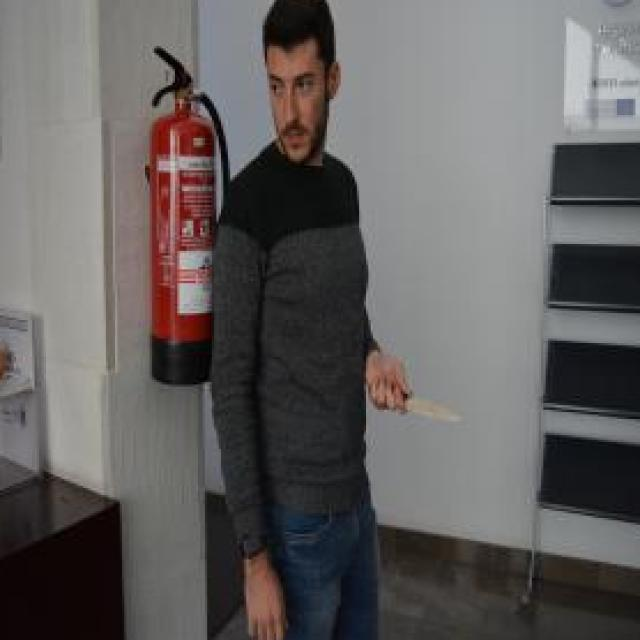knife: (390, 382, 463, 427)
